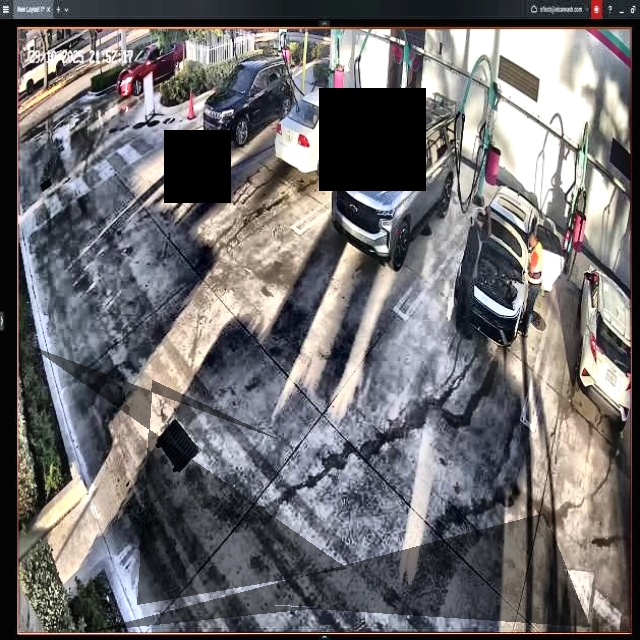Car: (331, 98, 454, 264), (454, 185, 561, 337), (275, 89, 319, 173)
